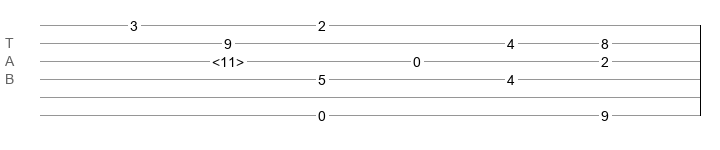0: (318, 108, 326, 118), (413, 54, 421, 64)
2: (318, 18, 326, 28), (601, 54, 609, 64)
3: (130, 18, 138, 28)
4: (507, 36, 515, 46), (507, 72, 515, 82)
5: (318, 72, 326, 82)
8: (601, 36, 609, 46)
9: (224, 36, 232, 46), (601, 108, 609, 118)
harmonic: (212, 54, 244, 64)
